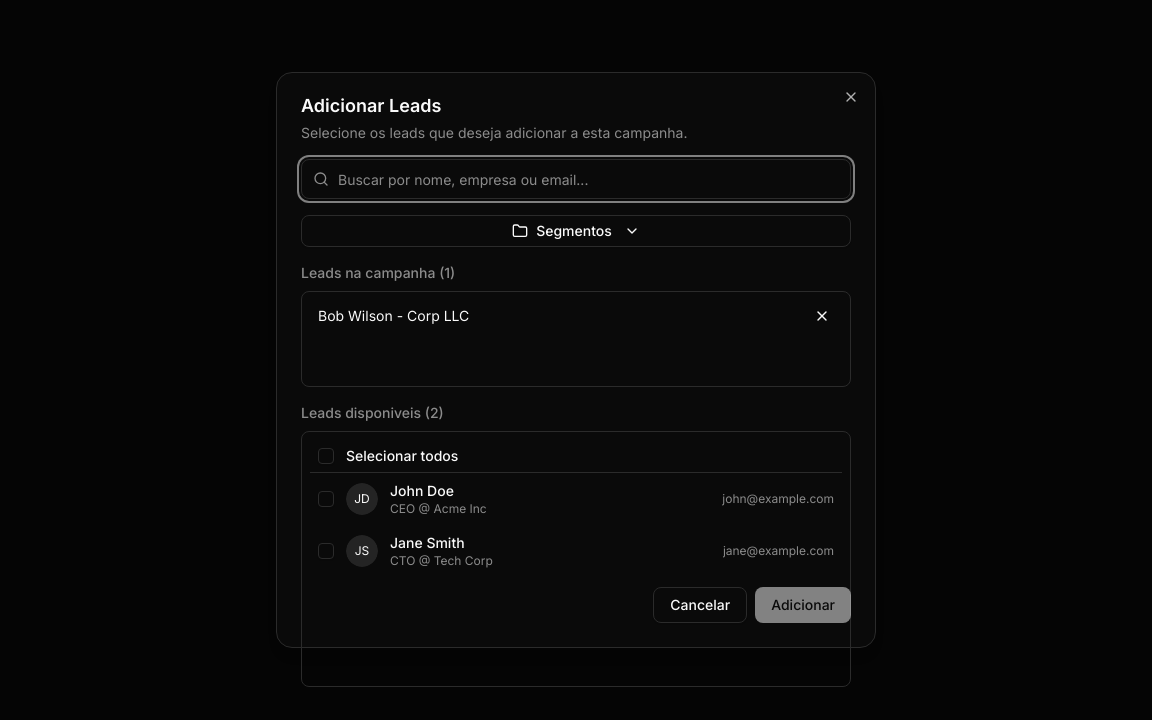
Test: AddLeadsDialog (Story 5.7 + 12.7) › Lead Selection (AC #3) › updates selection count when selecting multiple leads
Click the button with test id "lead-row-lead-1". click: [362, 499]
box: x1=310 y1=473 x2=842 y2=525
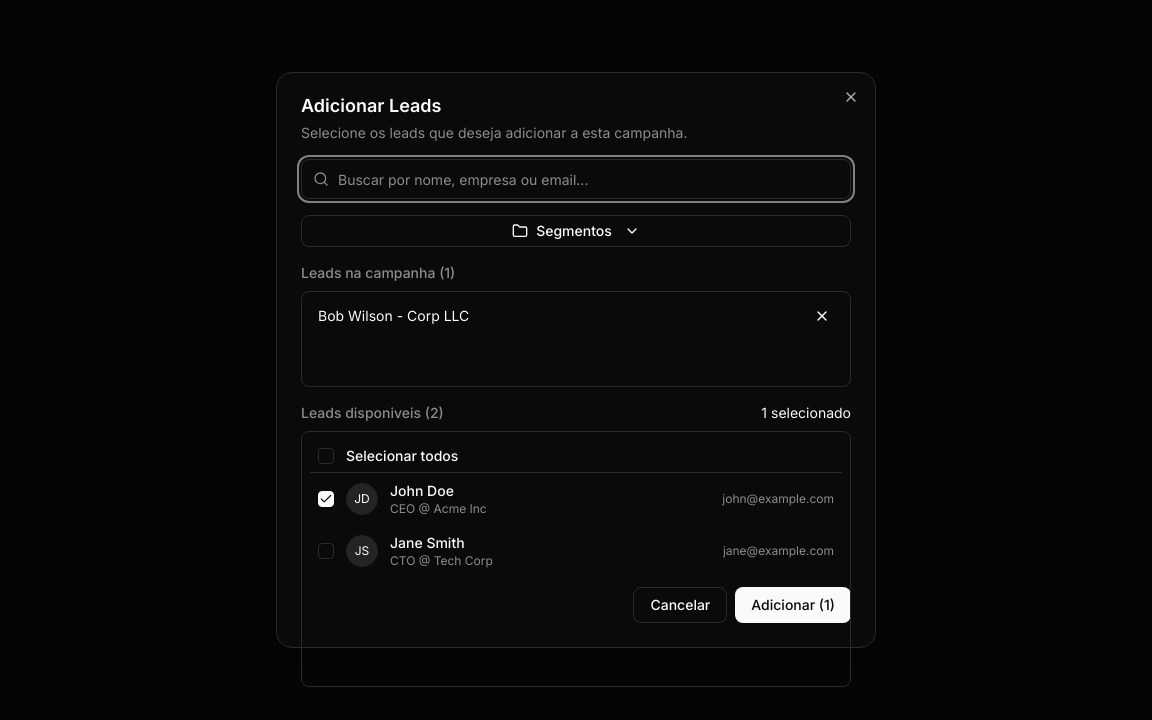
Click the button with test id "lead-row-lead-2". click: [362, 551]
box: x1=310 y1=525 x2=842 y2=577
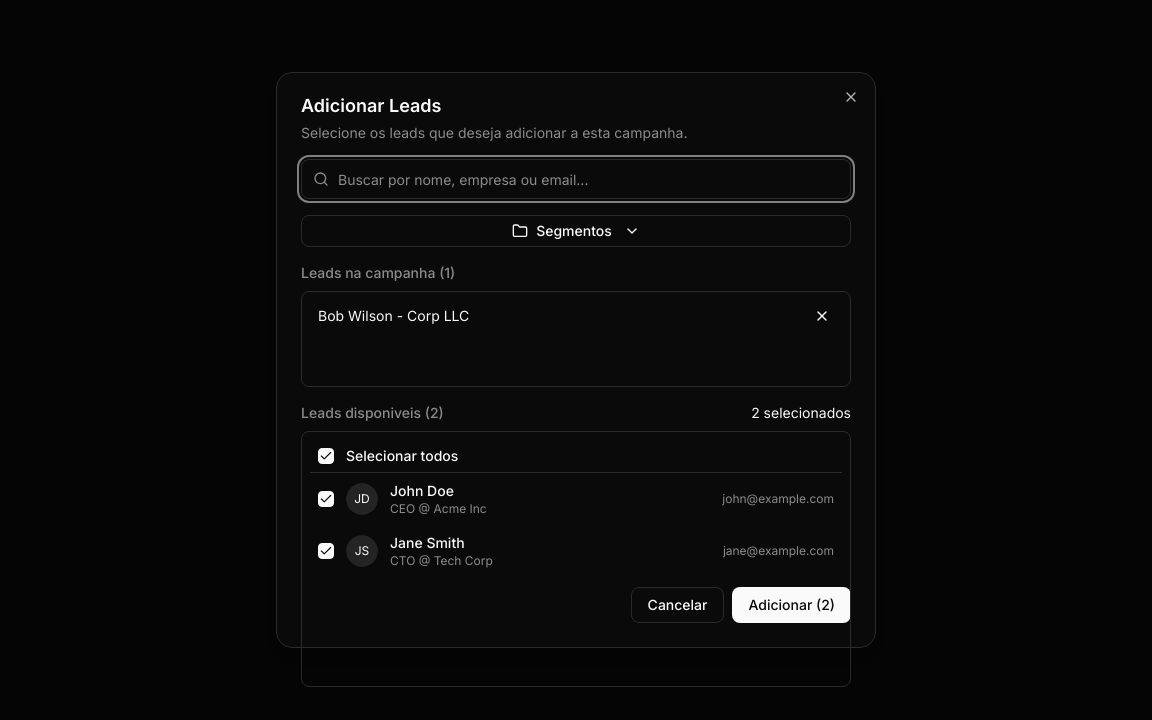
Result: the text "2 selecionados" is shown at x1=751 y1=403 x2=851 y2=423
